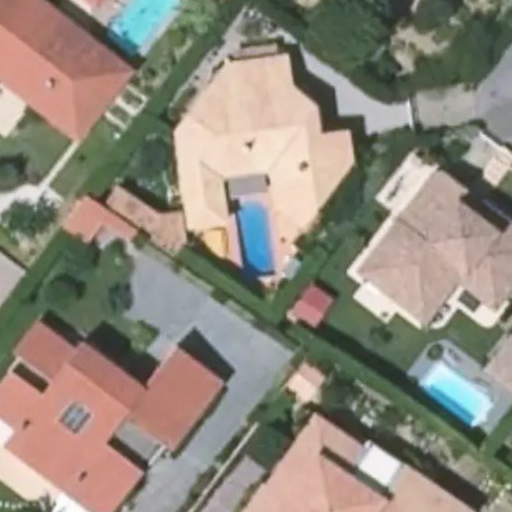pool: (230, 187, 289, 283), (416, 361, 496, 427), (106, 1, 185, 55)
